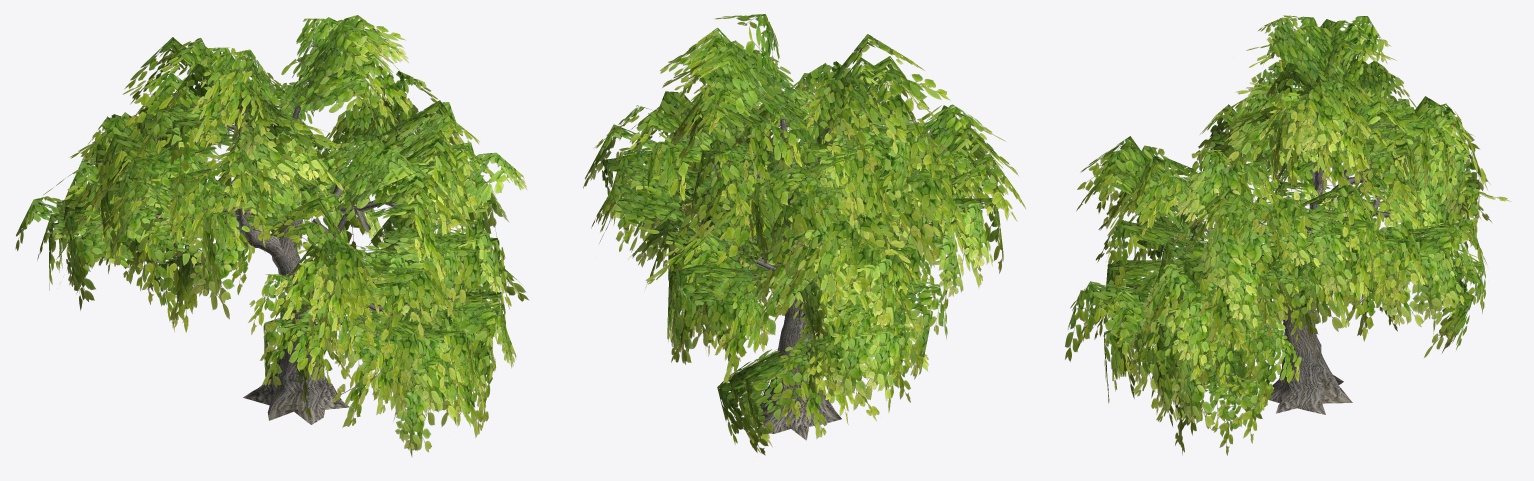
File: SingleTree_Right.gltf
3 views of the same model, side by side, from view 1: azimuth 30°, elevation 25°; view 2: azimuth 150°, elevation 25°; view 3: azimuth 270°, elevation 25° (orthographic). The views are drawn at different scales.
Parts seen in each view (by area): view 1: Object_7, Object_8, Object_5, Object_4, Object_3, Object_6, Object_2; view 2: Object_8, Object_4, Object_7, Object_5, Object_3, Object_6, Object_2; view 3: Object_7, Object_8, Object_4, Object_3, Object_6, Object_5, Object_2.
Boxes of the visible parts, left/top/right/bottom form: Object_7: left=15, top=17, right=526, bottom=452; Object_8: left=62, top=15, right=501, bottom=437; Object_5: left=56, top=25, right=501, bottom=434; Object_4: left=37, top=47, right=489, bottom=414; Object_3: left=43, top=38, right=511, bottom=457; Object_6: left=58, top=21, right=529, bottom=426; Object_2: left=156, top=105, right=408, bottom=424; Object_8: left=600, top=27, right=1018, bottom=439; Object_4: left=591, top=34, right=1025, bottom=455; Object_7: left=583, top=46, right=992, bottom=406; Object_5: left=651, top=37, right=1005, bottom=452; Object_3: left=593, top=54, right=1009, bottom=446; Object_6: left=616, top=14, right=1000, bottom=444; Object_2: left=707, top=118, right=844, bottom=440; Object_7: left=1078, top=63, right=1489, bottom=428; Object_8: left=1084, top=26, right=1487, bottom=421; Object_4: left=1076, top=17, right=1485, bottom=455; Object_3: left=1096, top=20, right=1511, bottom=454; Object_6: left=1065, top=15, right=1485, bottom=435; Object_5: left=1070, top=19, right=1479, bottom=427; Object_2: left=1194, top=132, right=1412, bottom=414.
Size of the model in its own units: 13.08 by 12.35 by 14.02.
Materials: 7 (7 with a texture image).
